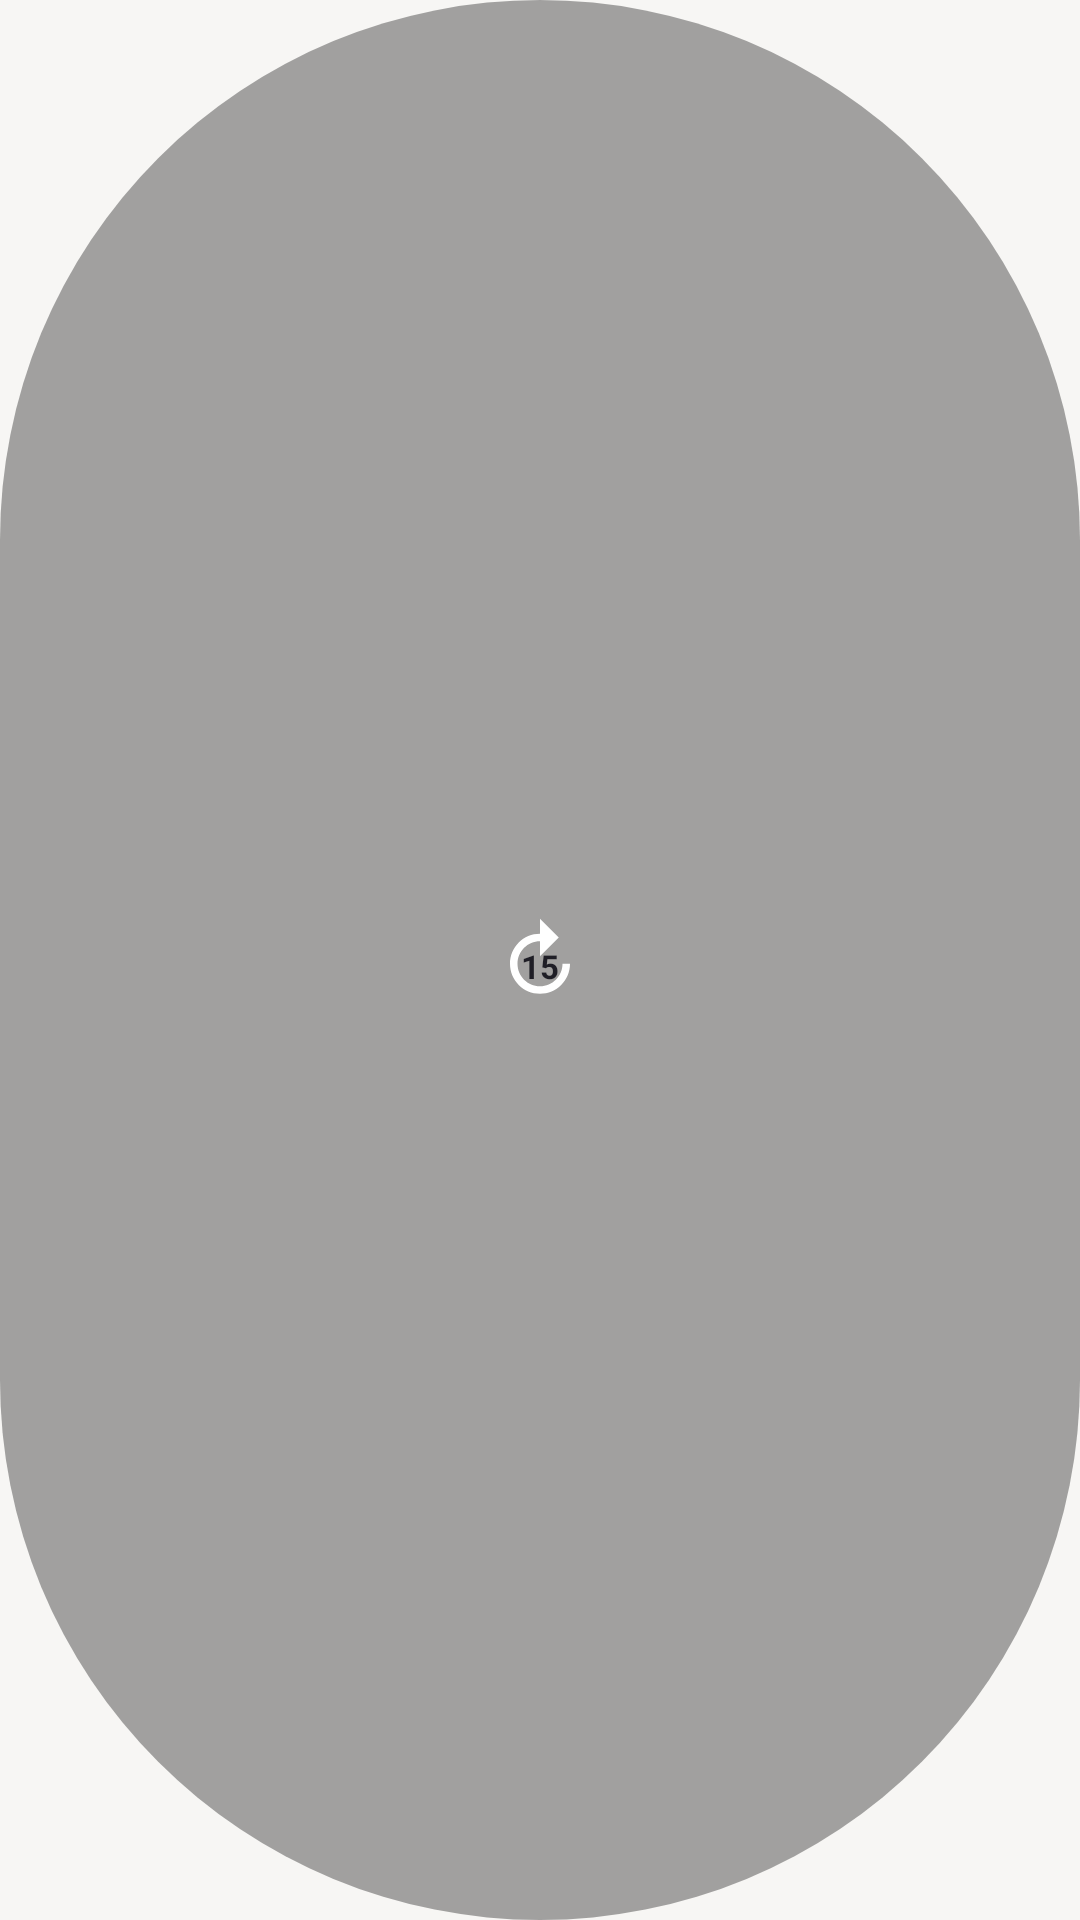

Locate icon controls on the screen. Image size 1080 × 1920, boxes as (x1, y1, x2, y2).
forward arrow: (510, 919, 570, 994)
